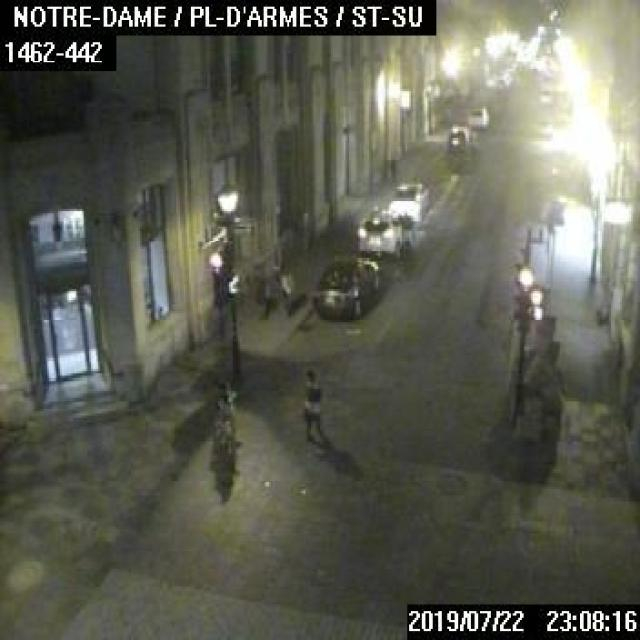pedestrian: (538, 340, 564, 429), (302, 369, 327, 442), (214, 380, 237, 444), (386, 133, 398, 178)
vehicle: (313, 256, 377, 318), (356, 211, 409, 263), (386, 179, 429, 223), (446, 123, 476, 153), (465, 104, 487, 128)
